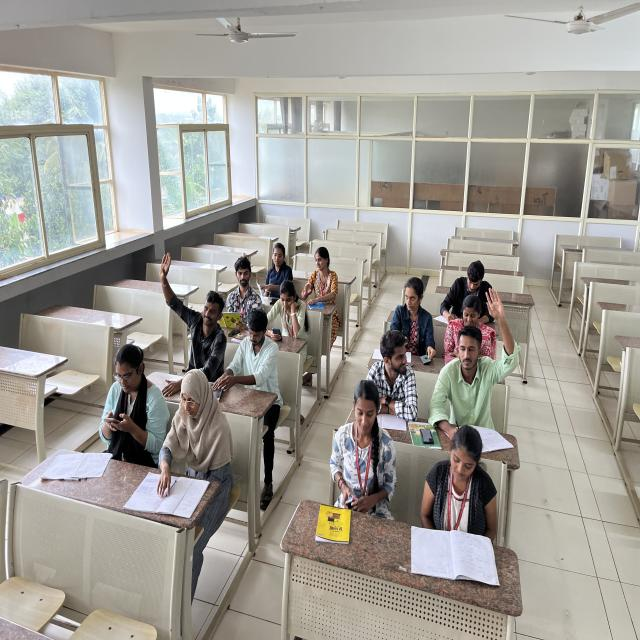Hand Rising: (434, 281, 521, 418), (151, 248, 231, 366)
Reading: (410, 428, 503, 567), (210, 250, 265, 334), (257, 242, 294, 294)
Using Phone: (95, 339, 163, 441), (267, 283, 308, 345)
